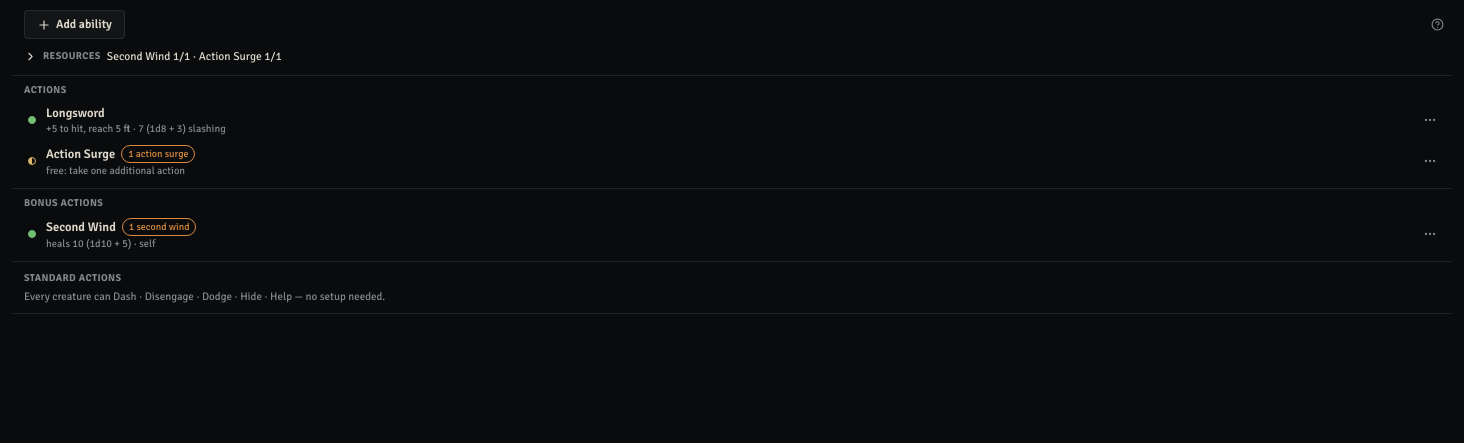
Test: the ability editor's shell › updates a section's summary and the preview as fields change
Click the button with aria-label "Edit Longsword" at (75,113), box [42,100,1410,140]
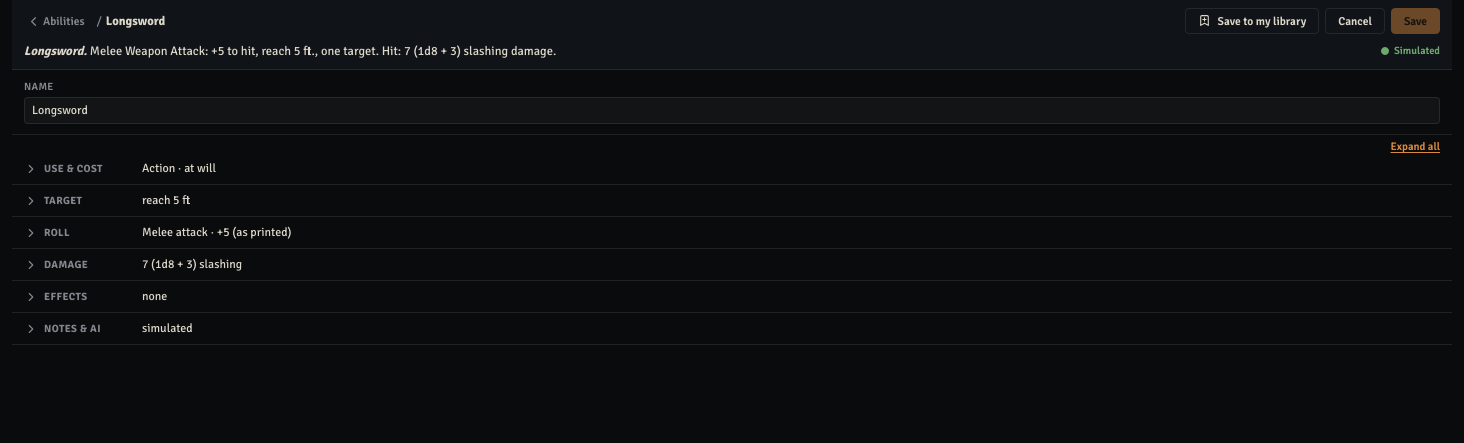
Click the button "Target reach 5 ft" at (63,201), box [12,185,1452,216]
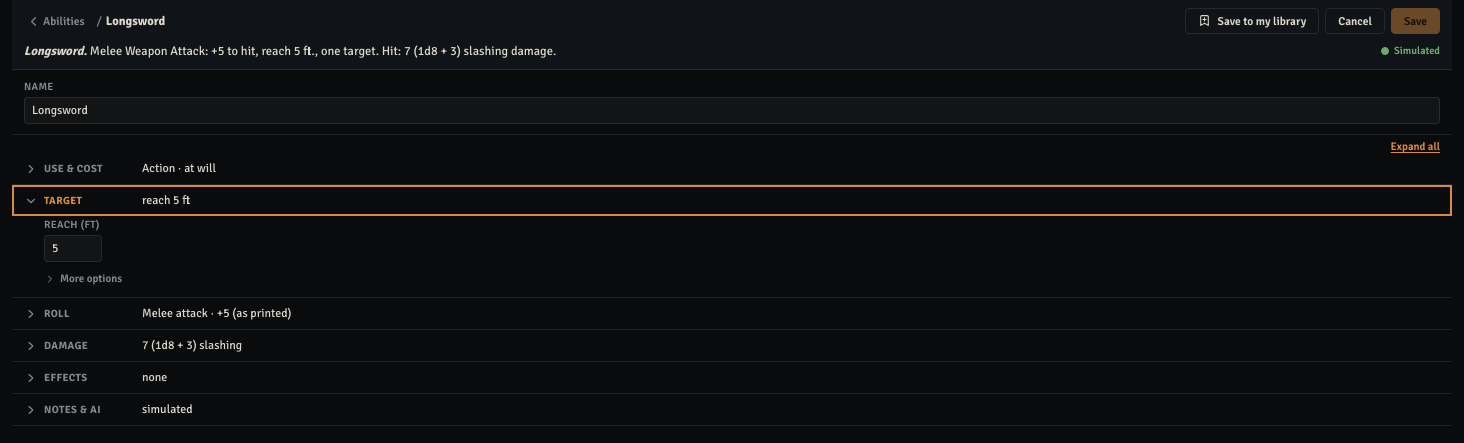
Replace the text in the field labelled "Reach (ft)" with "10" at (73,249), box [44,235,102,262]
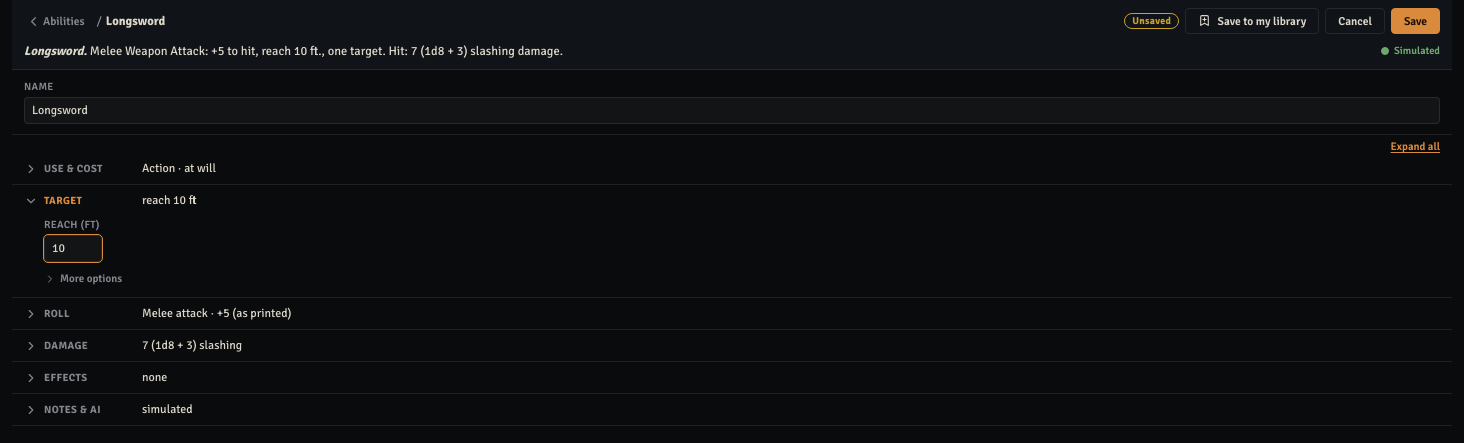
Check: the button "Target reach 10 ft" is shown, box [12,185,1452,216]
Check: the element named "Preview" shows "reach 10 ft.", box [90,43,563,59]
